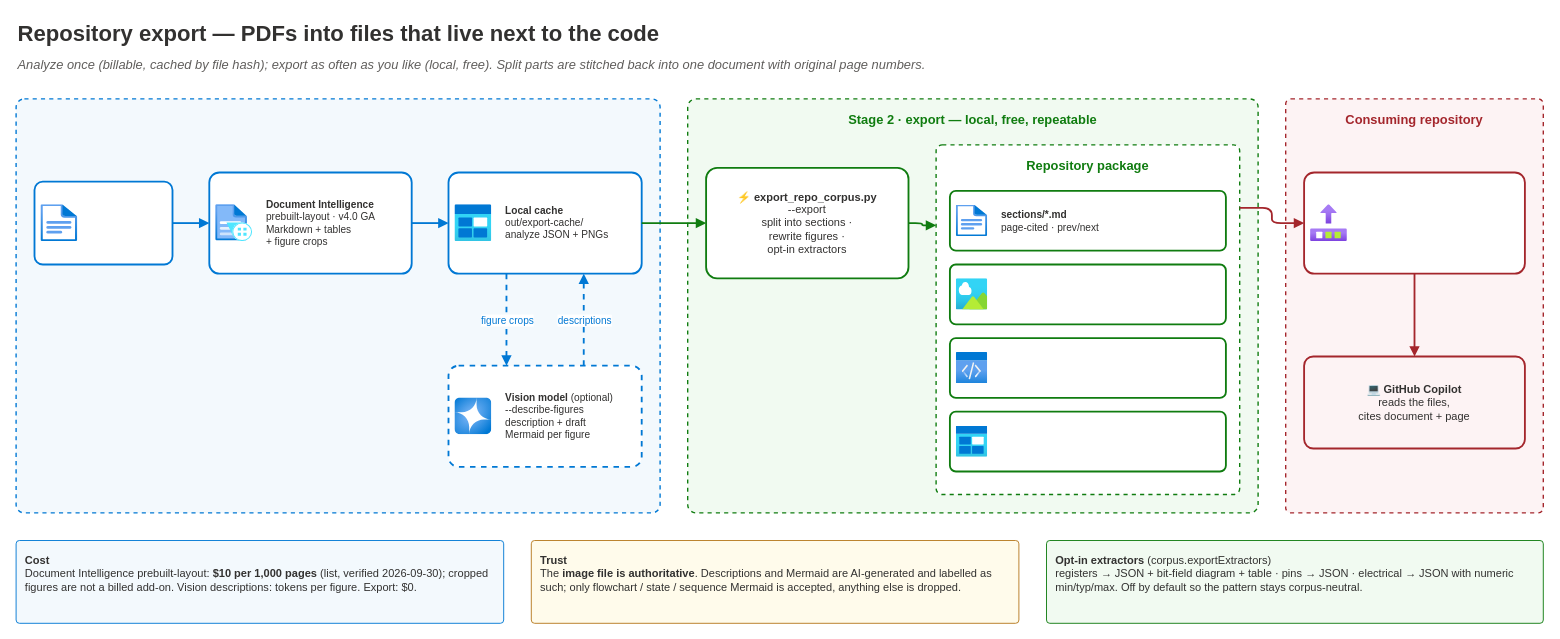
This 1560x639 diagram has some shape labels left out. The box of each missing label's shape, as (x1, y1, x2, y2) in pixels:
assets/figures/ original crops: (949, 263, 1226, 325)
docs/reference/ copied + committed, versioned with code: (1303, 171, 1525, 274)
PDFs or split parts: (33, 180, 173, 265)
README · manifest + Copilot instructions snippet: (949, 410, 1226, 472)
Stage 1 · analyze — Azure, billable, cached: (15, 98, 660, 513)
structured/ registers · pins · electrical: (949, 337, 1226, 398)
